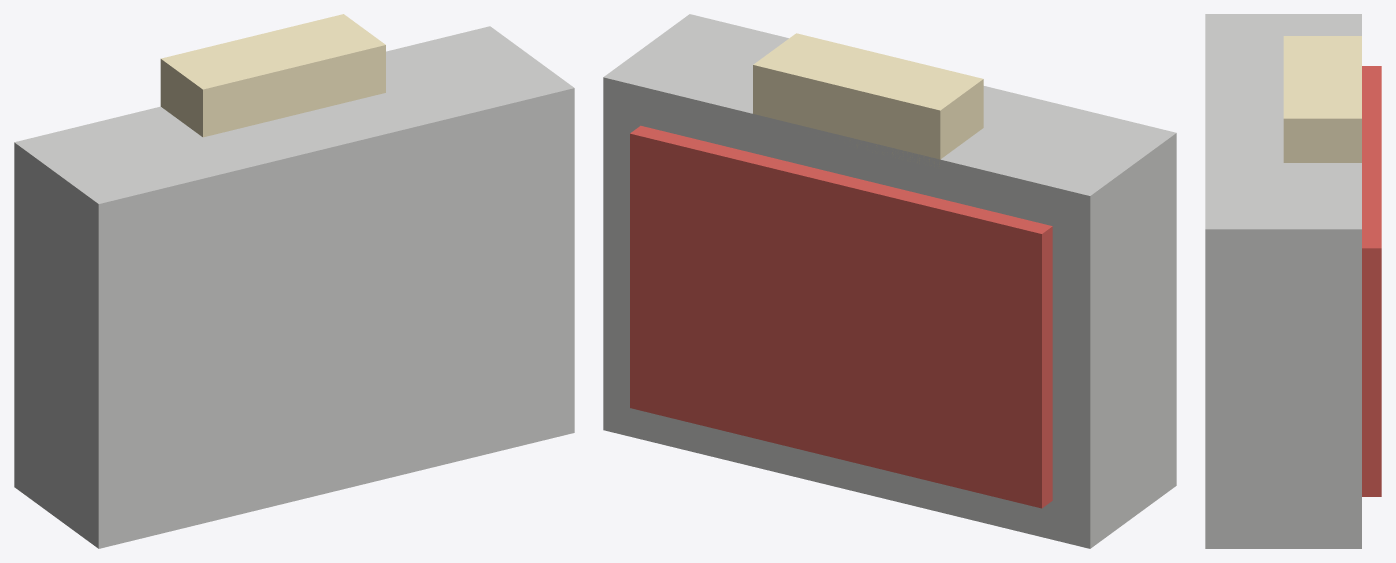
Rendered from burglar_alarm.glb.
The picture shows the model from 3 angles, left to right: view 1: azimuth 30°, elevation 25°; view 2: azimuth 150°, elevation 25°; view 3: azimuth 270°, elevation 25°; orthographic projection. The views are drawn at different scales.
Visible parts, largest first — view 1: burglar_alarm; view 2: burglar_alarm; view 3: burglar_alarm.
Part boxes in pixels (left/top/right/bottom): burglar_alarm: left=14, top=14, right=574, bottom=548; burglar_alarm: left=603, top=14, right=1176, bottom=548; burglar_alarm: left=1205, top=14, right=1381, bottom=548.
Size of the model in its own units: 0.26 by 0.205 by 0.09.
